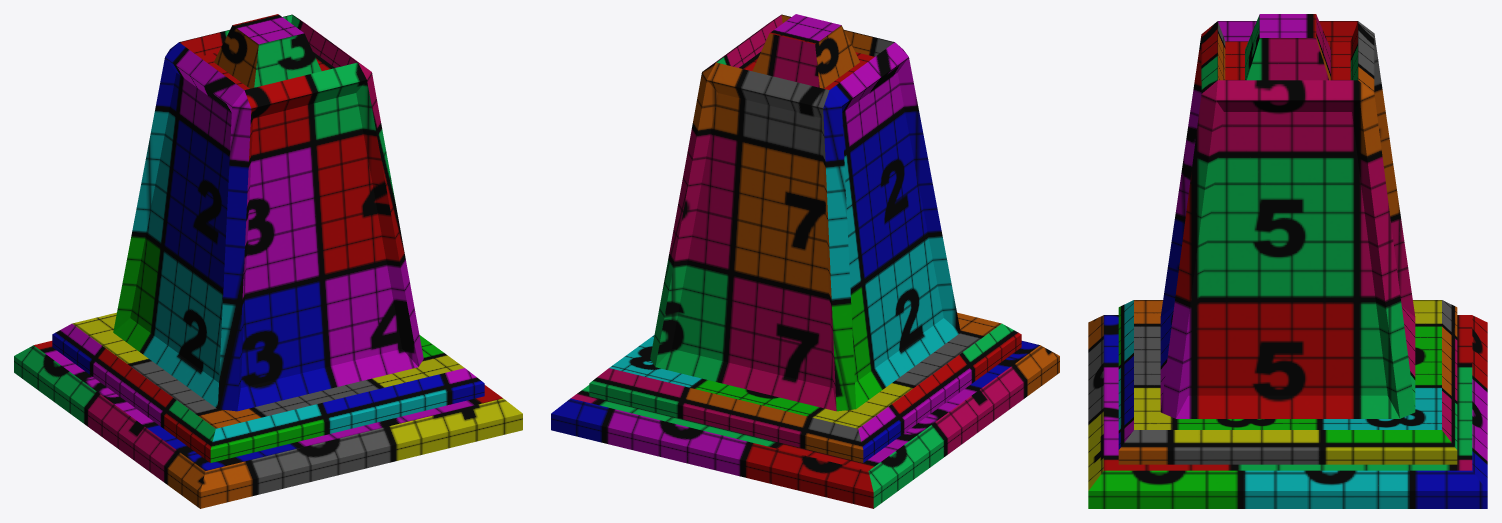
Rendered from pedestal.fbx.
3 renders of one model, left to right at view 1: azimuth 30°, elevation 25°; view 2: azimuth 150°, elevation 25°; view 3: azimuth 270°, elevation 25°, orthographic. The views are drawn at different scales.
Parts seen in each view (by area): view 1: pCube32; view 2: pCube32; view 3: pCube32.
Part boxes in pixels (x1,y1,x2,y2): pCube32: (14,14,522,508); pCube32: (551,14,1059,508); pCube32: (1088,14,1487,508).
Size of the model in its own units: 1 by 1.1 by 1.
Materials: 1 (1 with a texture image).
